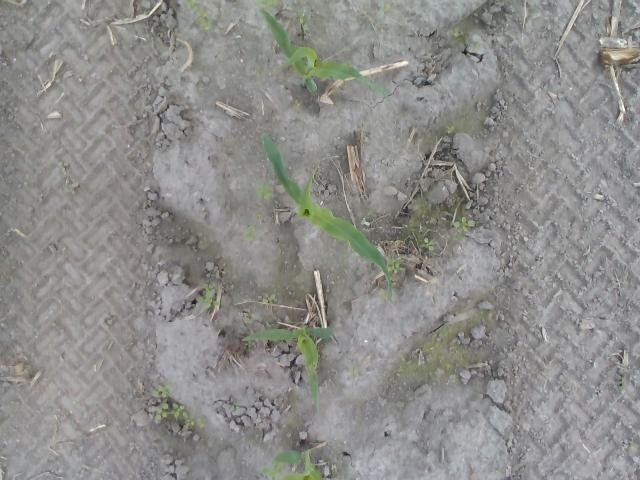Maize: (261, 130, 394, 302), (254, 2, 390, 100), (242, 327, 336, 417), (264, 442, 330, 480)
Weeds: (154, 384, 206, 430), (186, 1, 212, 31), (56, 161, 78, 195), (195, 283, 221, 311), (453, 216, 478, 234), (298, 9, 312, 35), (254, 183, 273, 202), (361, 210, 377, 226), (622, 440, 640, 454), (244, 225, 258, 243), (419, 237, 434, 252), (349, 363, 364, 376), (262, 292, 276, 304), (242, 308, 254, 322), (617, 375, 626, 393), (389, 264, 407, 273), (454, 26, 467, 38), (467, 43, 482, 52), (244, 338, 255, 350), (258, 1, 276, 8), (385, 5, 395, 14), (292, 98, 300, 107)
